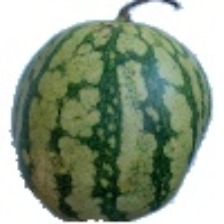watermelon: (10, 31, 190, 219)
